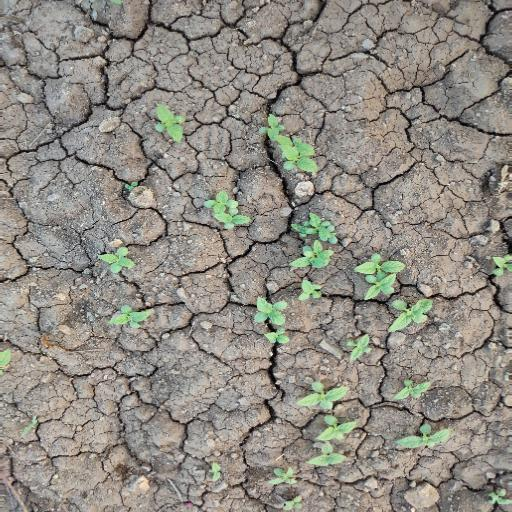crop: (291, 373, 362, 476), (355, 249, 437, 335), (254, 110, 325, 183), (283, 207, 341, 275), (203, 184, 254, 235), (90, 236, 143, 278), (389, 424, 457, 453), (150, 102, 192, 147), (103, 301, 156, 335), (392, 374, 432, 408)
